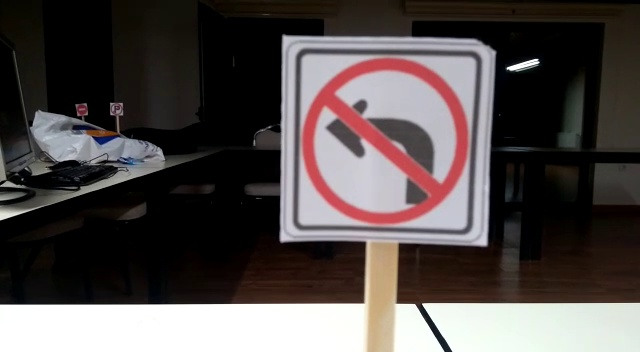sola_donulmez: (282, 41, 489, 241)
